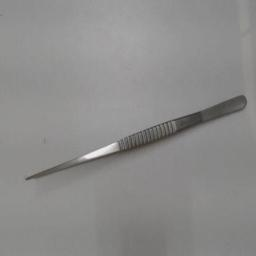DeBakey Dissector: (22, 79, 252, 195)
